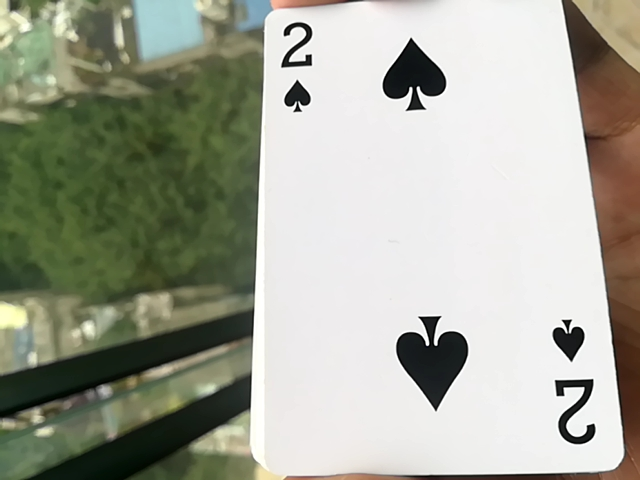ht 2: (241, 4, 630, 480)
